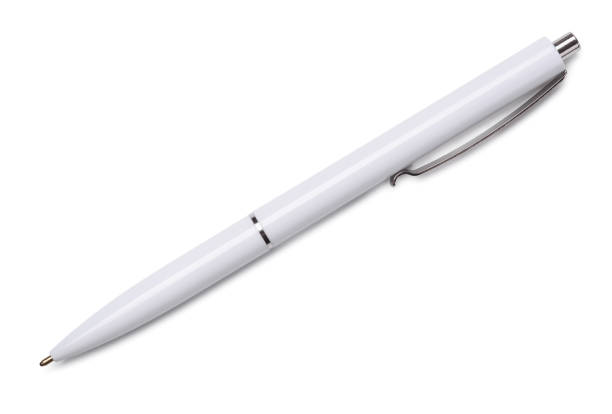pen: (2, 24, 601, 376)
